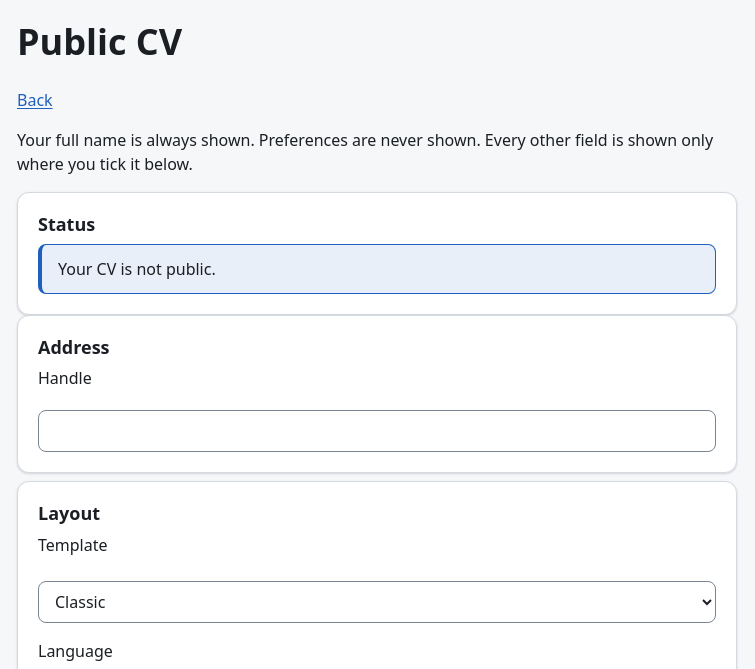
Test: the photo picker › lists the JPEG files by name with No photo selected and says the photo is public
This screenshot has width=755, height=669.
Select "Professional" in the dropdown labelled "Template" at (377, 602), box [38,580,716,622]
(page scrolled)
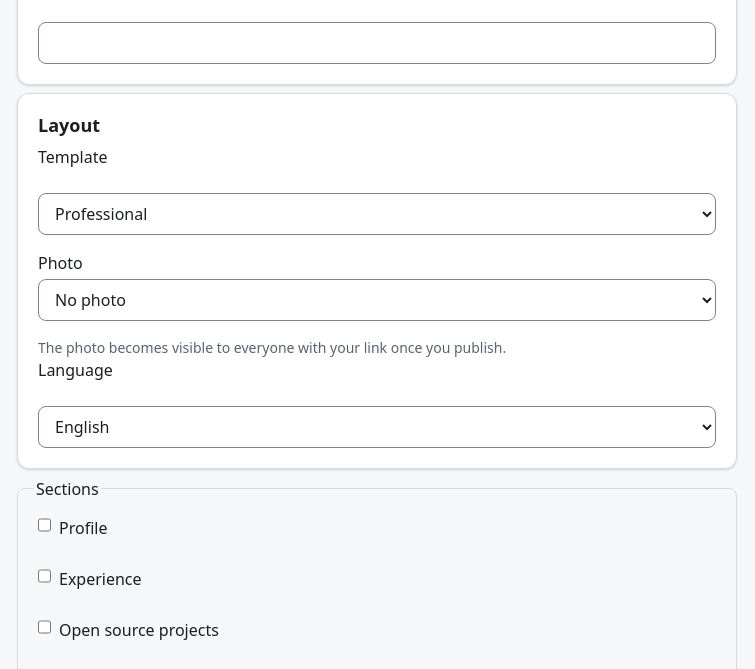
Check: the dropdown labelled "Photo" shows "No photo", box [38,278,716,320]
Check: the text "The photo becomes visible to everyone with your link once you publish." is shown, box [38,338,506,356]
